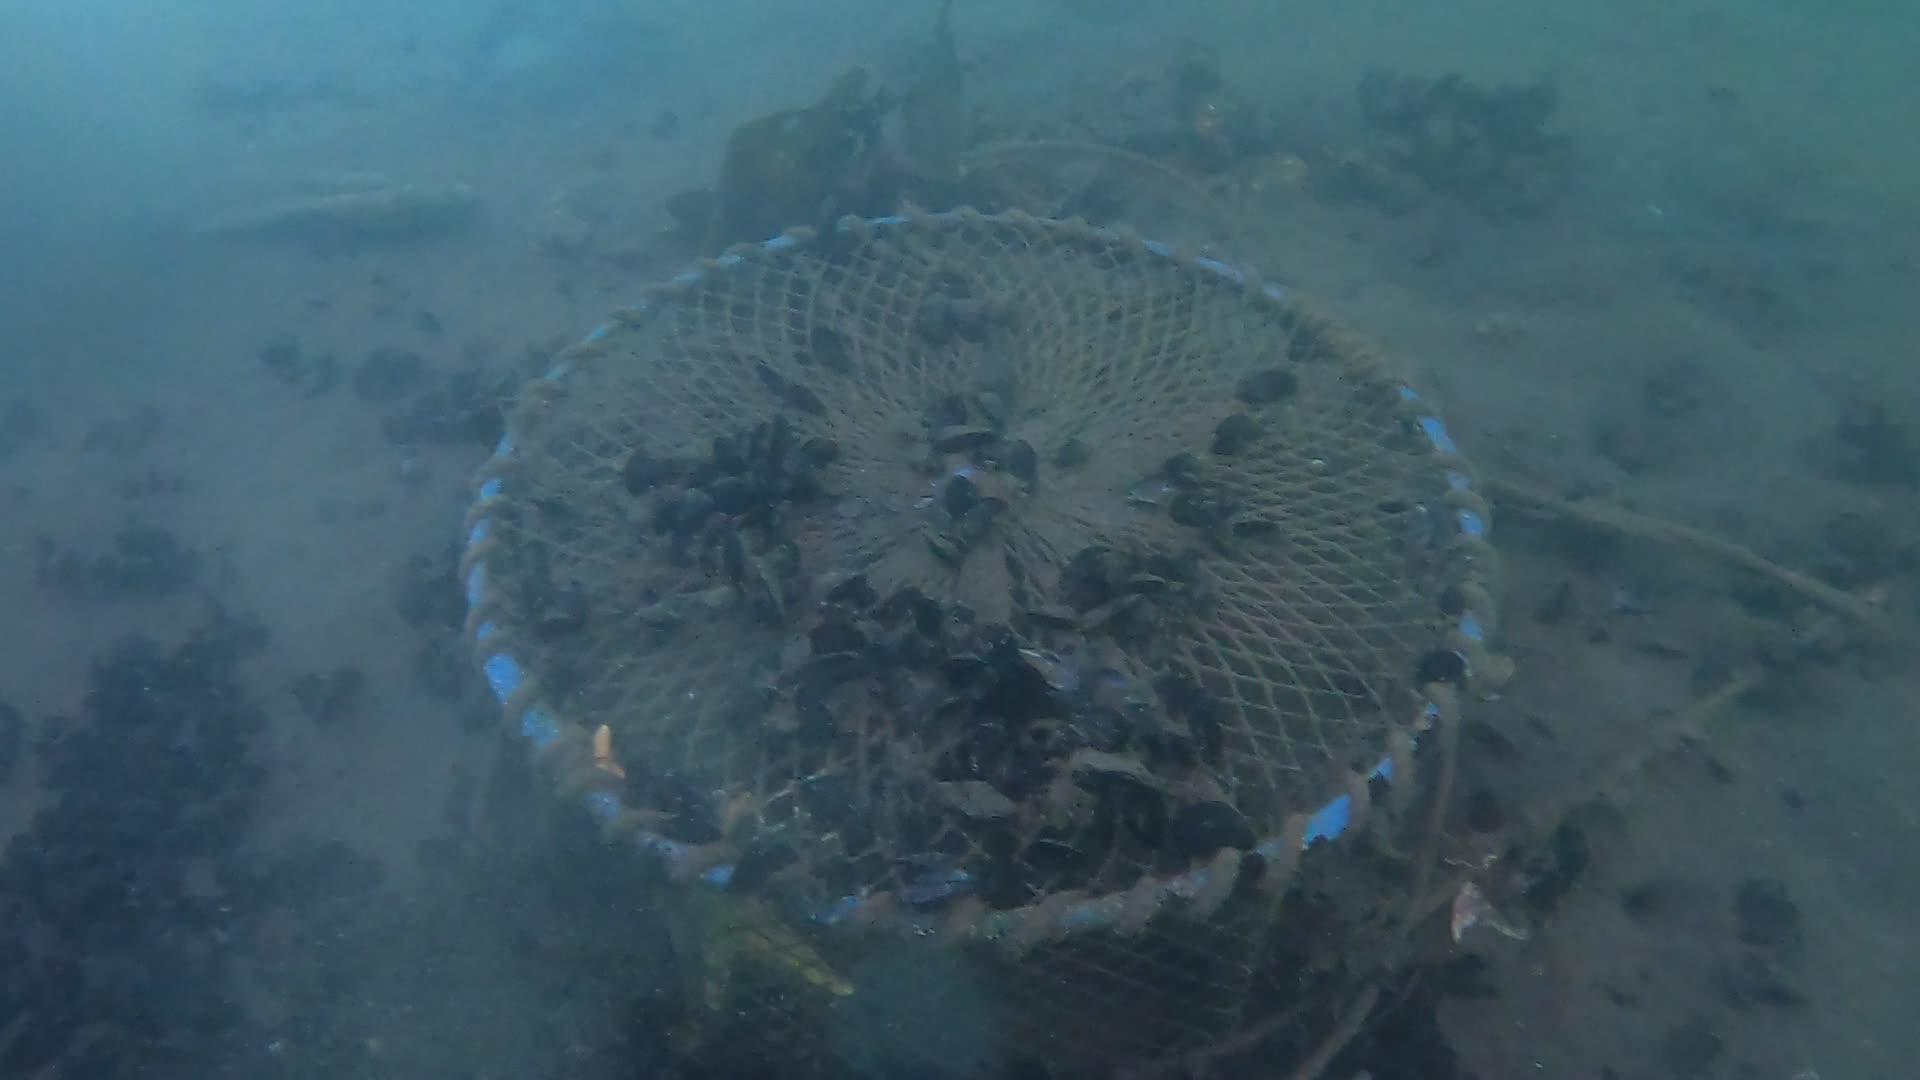circular fish trap: (459, 200, 1509, 1080)
